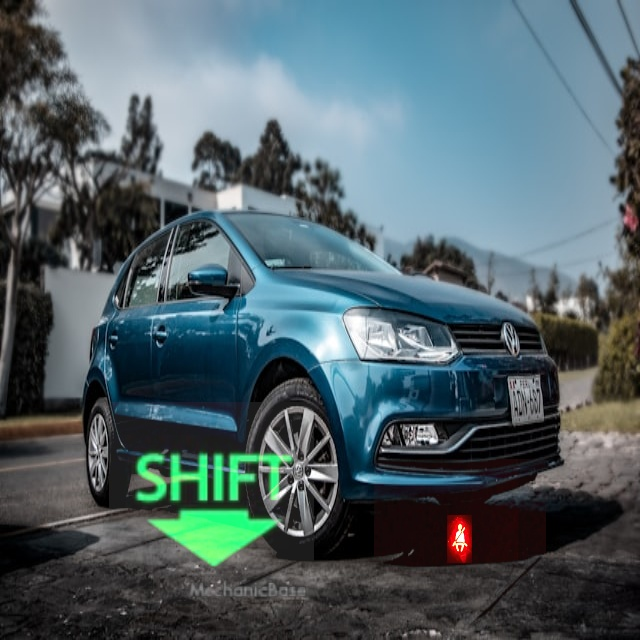symbol: (109, 402, 314, 607), (374, 459, 546, 631)
